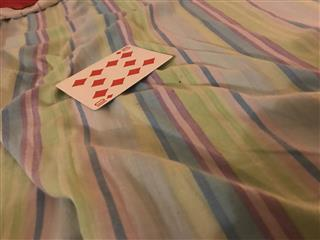TenOfDiamonds: (54, 43, 174, 110)
